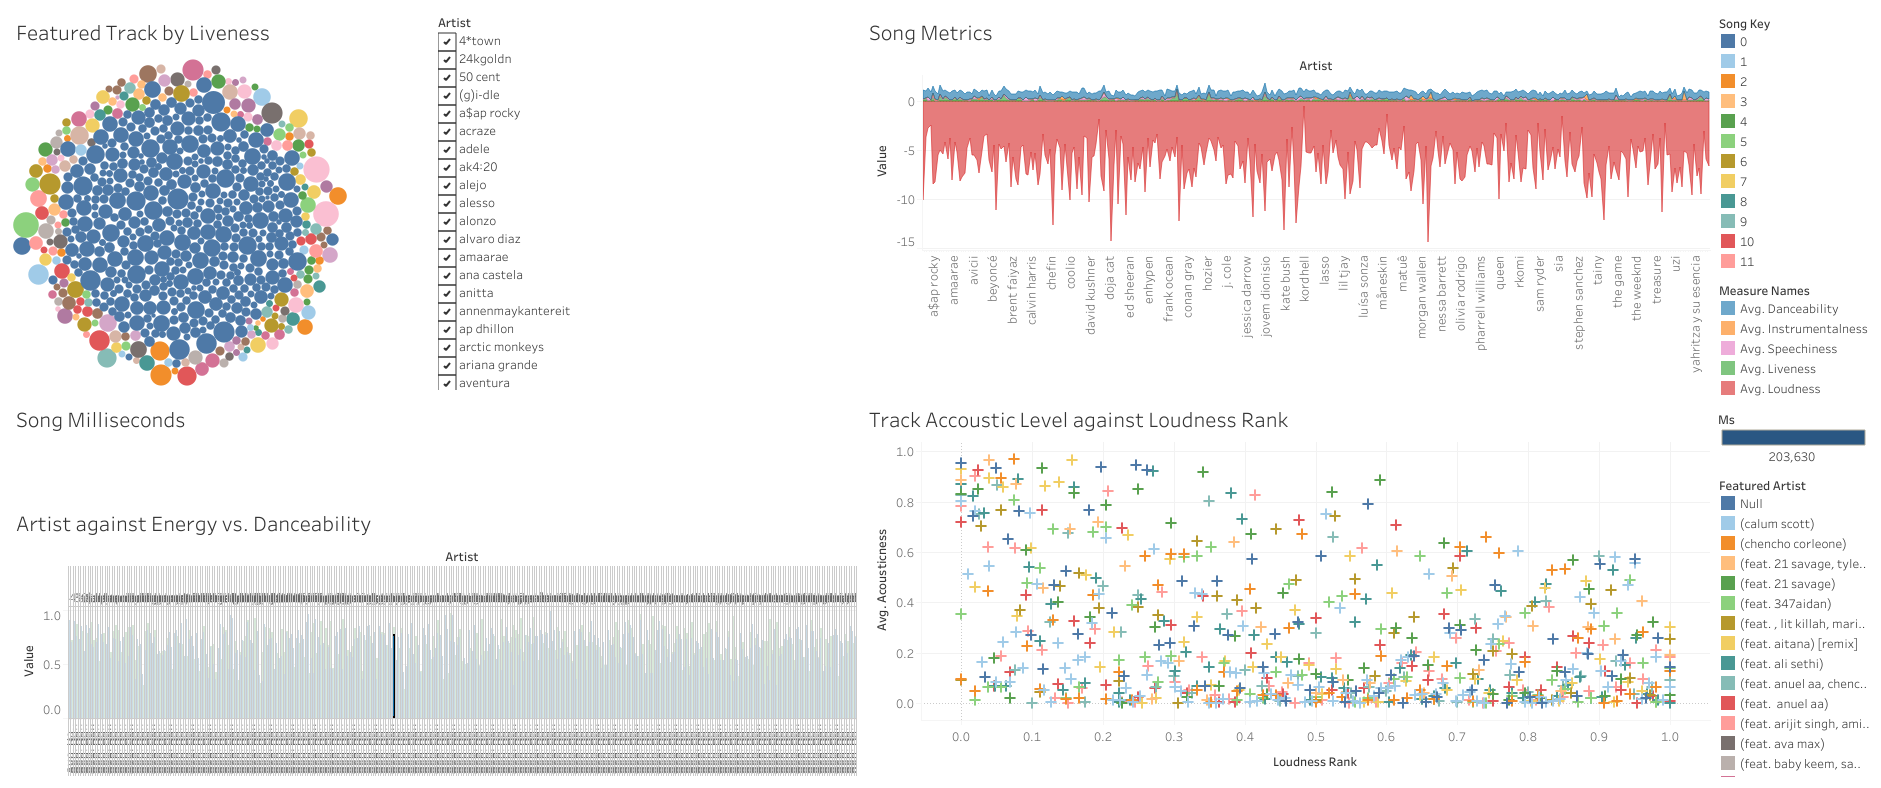

The dashboard page shown, as its layout file describes it:
{"tool":"tableau","page":{"name":"Dashboard 1","canvas":[1000,1000],"units":"permille","ordinal":0},"visuals":[{"type":"worksheet","title":"Featured Track by Liveness","mark":"Circle","box":[4.7,8.8,224.3,491.2]},{"type":"filter","title":"Track","param":"[federated.11blawe1hcyunf11dpjmd1ja5jxv].[none:artists_cleaned:nk]","box":[228.9,8.8,224.3,491.2]},{"type":"worksheet","title":"Song Metrics","mark":"Area","cols":["artists_cleaned"],"box":[453.2,8.8,448.6,491.2]},{"type":"legend","title":"Track","param":"[federated.11blawe1hcyunf11dpjmd1ja5jxv].[none:song_key:ok]","box":[901.9,8.8,93.5,294.2]},{"type":"legend","title":"Song Metrics","param":"[federated.11blawe1hcyunf11dpjmd1ja5jxv].[:Measure Names]","box":[901.9,303.1,93.5,139.4]},{"type":"legend","title":"Total Milliseconds","param":"[federated.11blawe1hcyunf11dpjmd1ja5jxv].[usr:Calculation_781937494516191234:qk]","box":[901.9,442.5,93.5,71.9]},{"type":"worksheet","title":"Total Milliseconds","mark":"Automatic","cols":["Calculation_781937494516191234"],"box":[4.7,500,448.6,132.7]},{"type":"worksheet","title":"Track","mark":"Automatic","rows":["acousticness"],"box":[453.2,500,448.6,491.2]},{"type":"legend","title":"Featured Track by Liveness","param":"[federated.11blawe1hcyunf11dpjmd1ja5jxv].[none:featured_artist_cleaned:nk]","box":[901.9,514.4,93.5,476.8]},{"type":"worksheet","title":"Artist By Energy","mark":"Automatic","cols":["artists_cleaned"],"box":[4.7,632.7,448.6,358.4]}]}

Visuals, with their boxes on the dashboard's canvas, which has no fixed pixel size, in thousandths of its width and height (x1, y1, x2, y2). These are canvas units, not pixel positions in the 1881x788 screenshot, which may show the page scaled, cropped or inside an application window:
"Featured Track by Liveness" worksheet (Circle marks): left=5, top=9, right=229, bottom=500
"Track" filter: left=229, top=9, right=453, bottom=500
"Song Metrics" worksheet (Area marks): left=453, top=9, right=902, bottom=500
"Track" legend: left=902, top=9, right=995, bottom=303
"Song Metrics" legend: left=902, top=303, right=995, bottom=442
"Total Milliseconds" legend: left=902, top=442, right=995, bottom=514
"Total Milliseconds" worksheet: left=5, top=500, right=453, bottom=633
"Track" worksheet: left=453, top=500, right=902, bottom=991
"Featured Track by Liveness" legend: left=902, top=514, right=995, bottom=991
"Artist By Energy" worksheet: left=5, top=633, right=453, bottom=991
